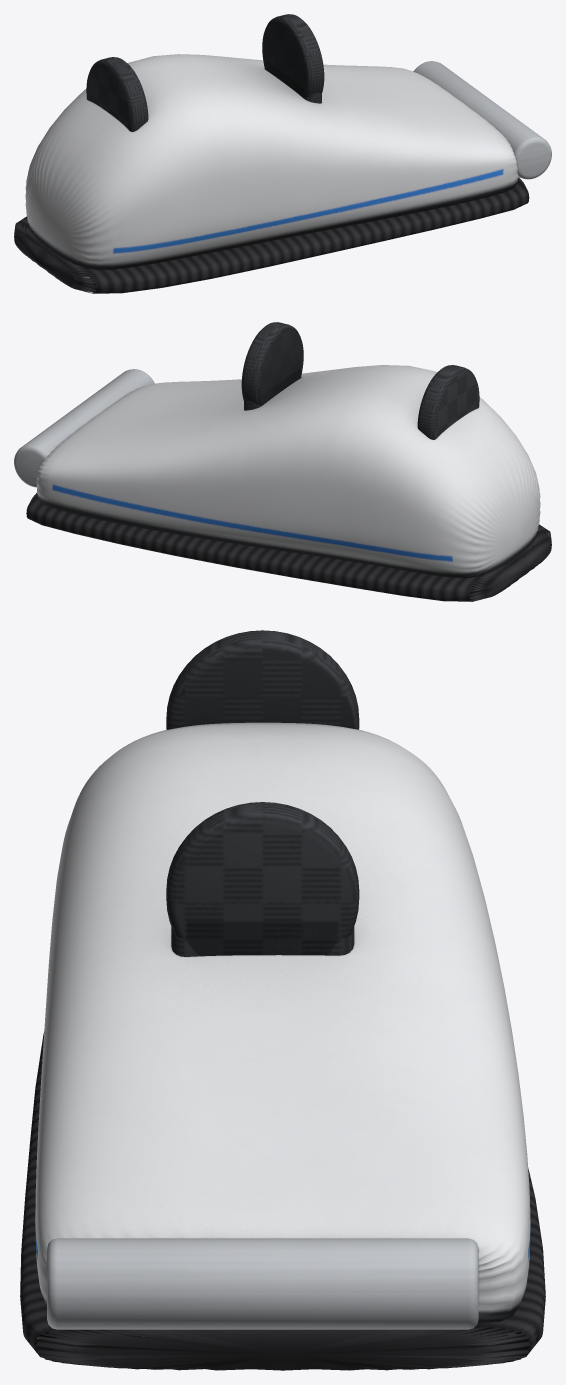
The model's file is right_foot.glb.
3 renders of one model, top to bottom at view 1: azimuth 30°, elevation 25°; view 2: azimuth 150°, elevation 25°; view 3: azimuth 270°, elevation 25°, orthographic. The views are drawn at different scales.
Visible parts, largest first — view 1: right_foot; view 2: right_foot; view 3: right_foot.
Part boxes in pixels (left/top/right/bottom): right_foot: left=14, top=14, right=551, bottom=293; right_foot: left=14, top=322, right=551, bottom=601; right_foot: left=20, top=630, right=545, bottom=1370.
Size of the model in its own units: 0.2098 by 0.084 by 0.1036.
Materials: 1 (1 with a texture image).
